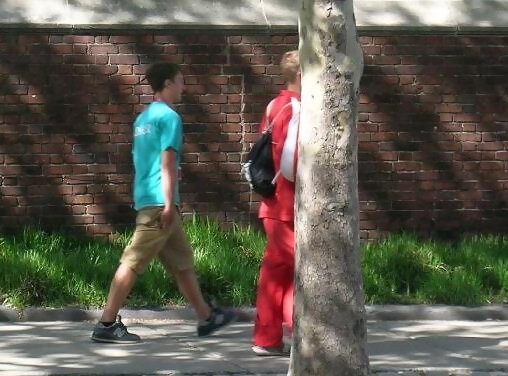person: (91, 57, 238, 347), (247, 50, 326, 355)
